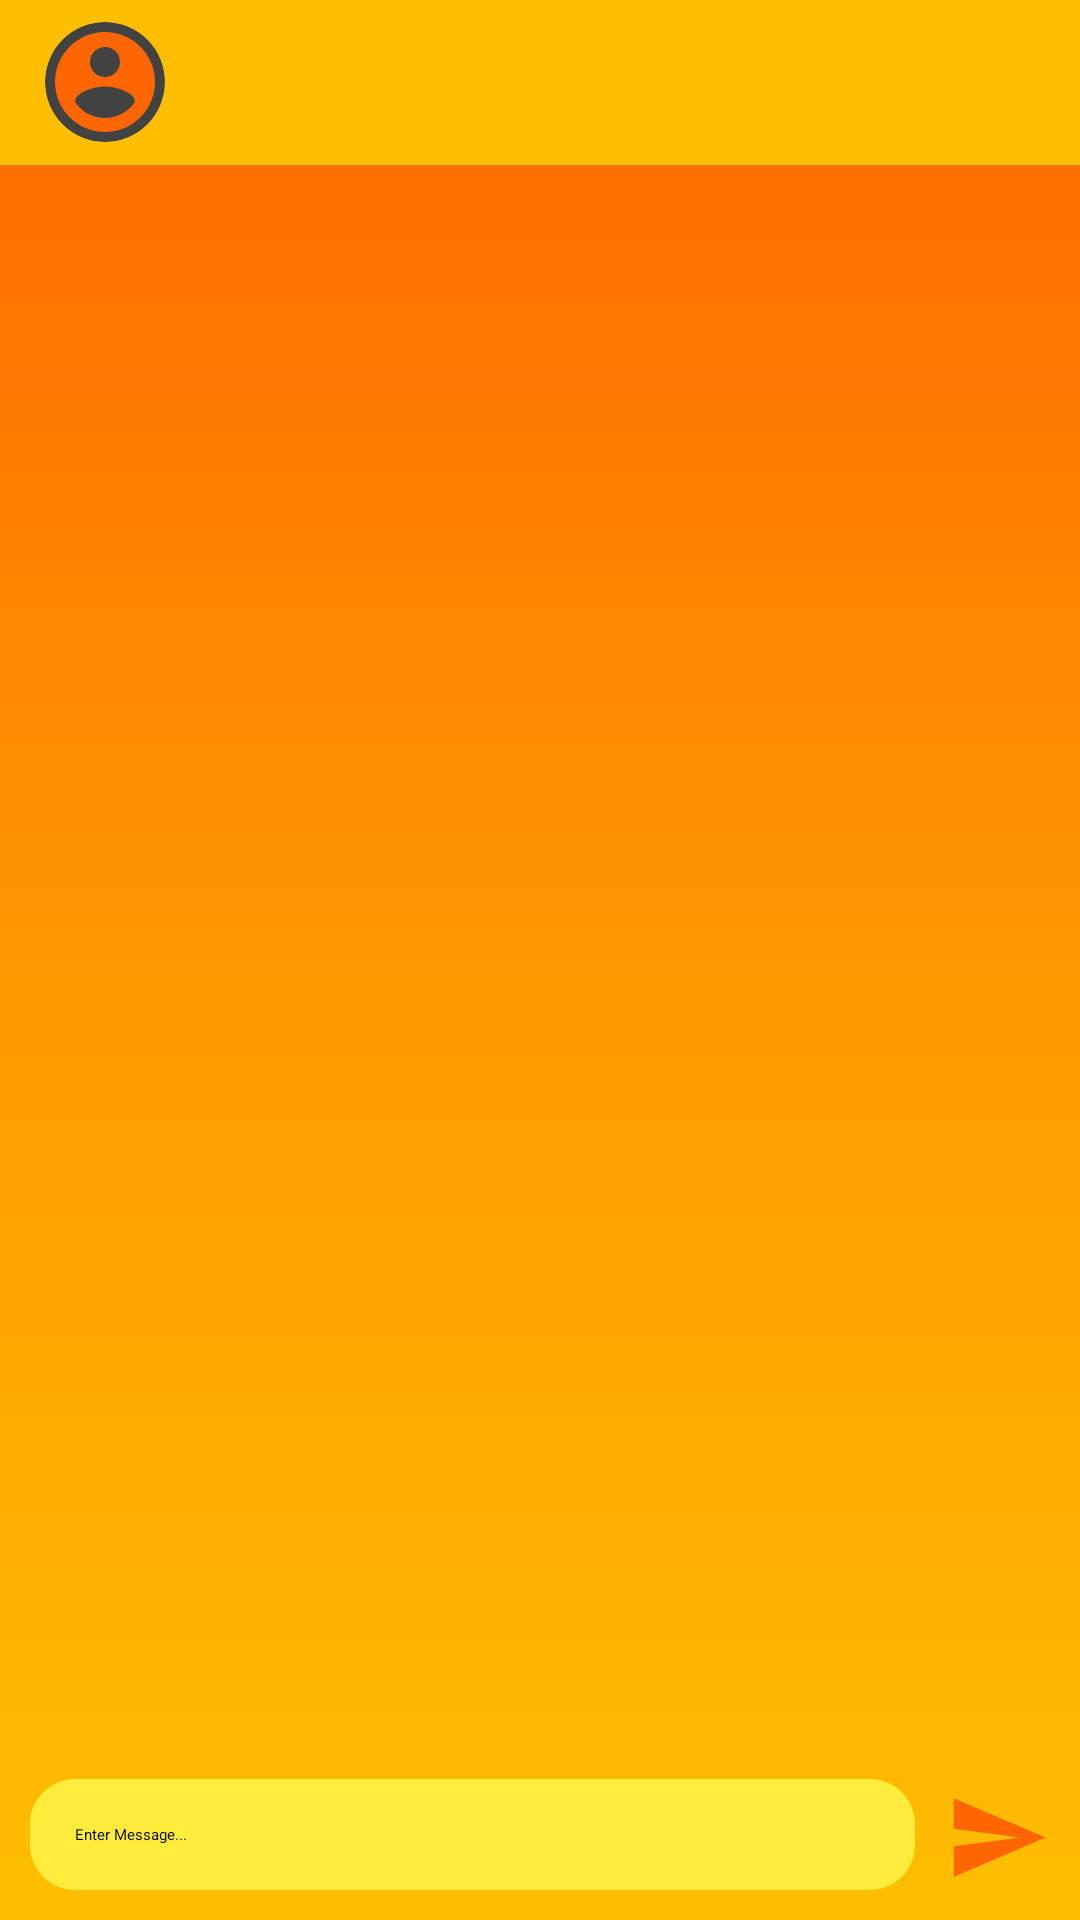

Named icons in this screenshot (1080x1920) and their bounding boxes, {"left": x1, "top": y1, "right": x2, "bottom": y2}:
acc: {"left": 45, "top": 22, "right": 165, "bottom": 142}
send: {"left": 954, "top": 1798, "right": 1045, "bottom": 1877}
